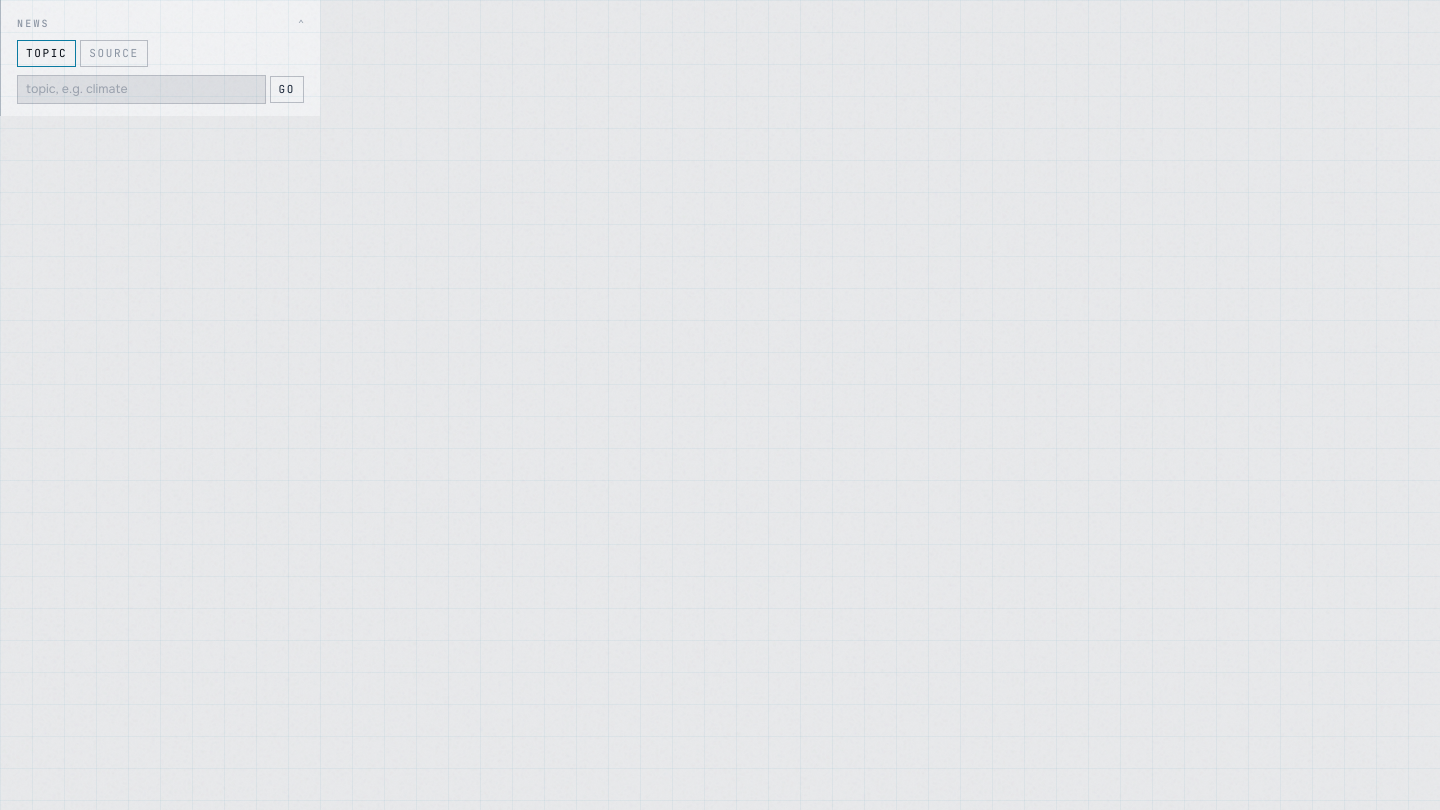
Scenario: NewsWidget › renders quota_reached banner on 429
Step 1. Type "ai" into the field with placeholder "topic, e.g. climate" → (141, 89), box [17,74,266,104]
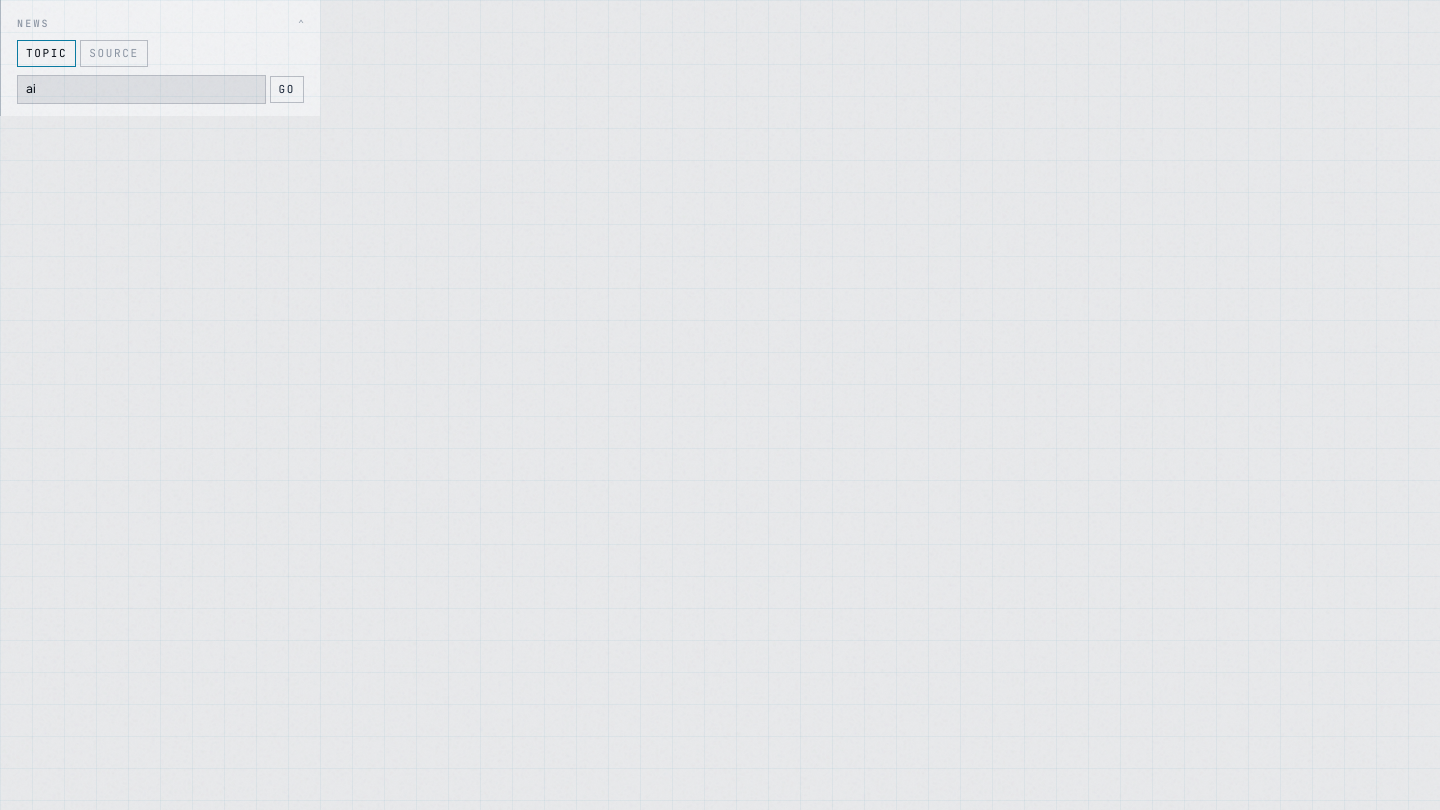
Step 2. Click the button "Go" → (287, 89), box [270,76,304,103]
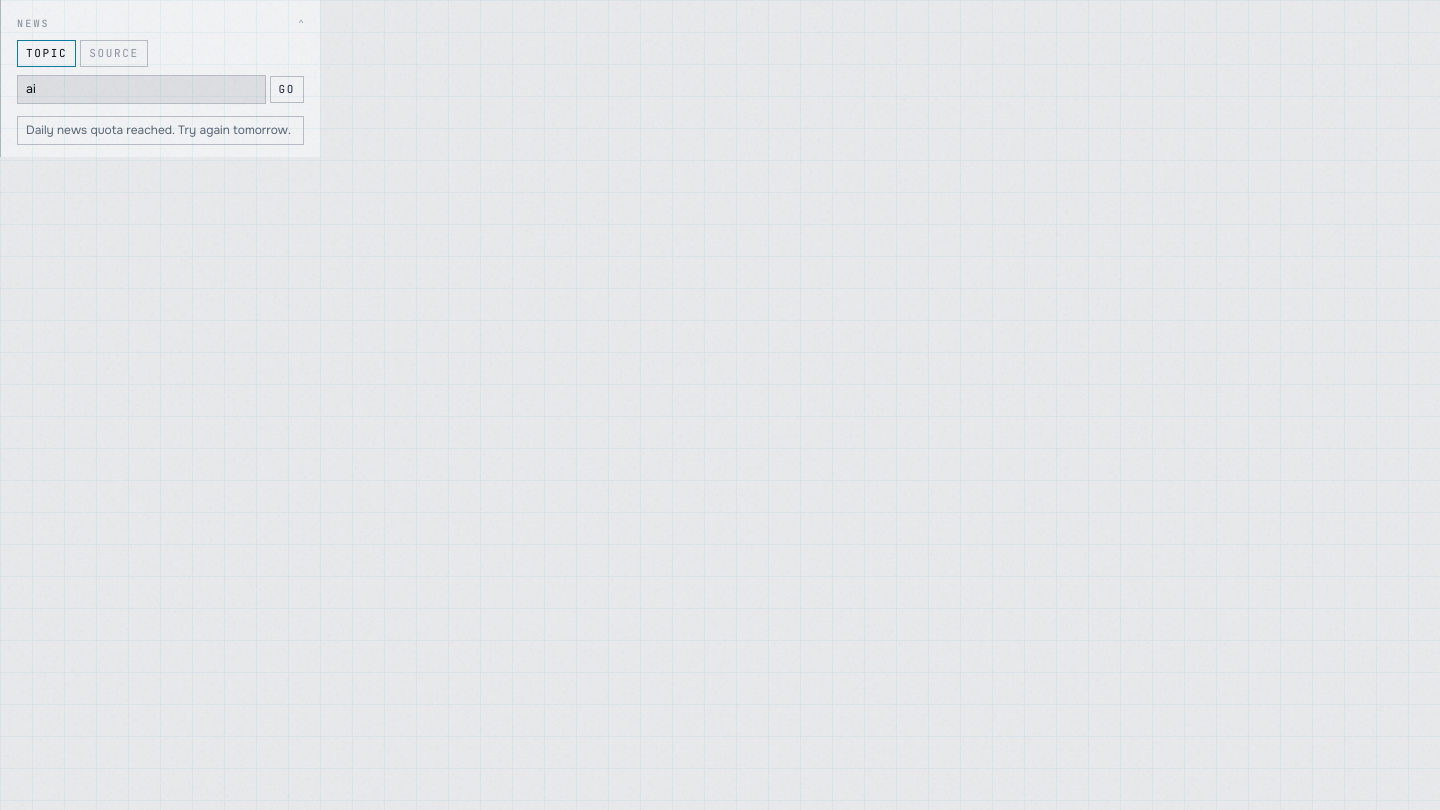
Result: the text "Daily news quota reached. Try again tomorrow." is shown at [17,116,304,144]
